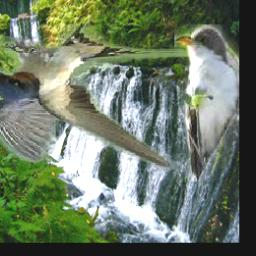Cuckoo: (174, 24, 239, 182)
Swallow: (0, 24, 194, 172)
